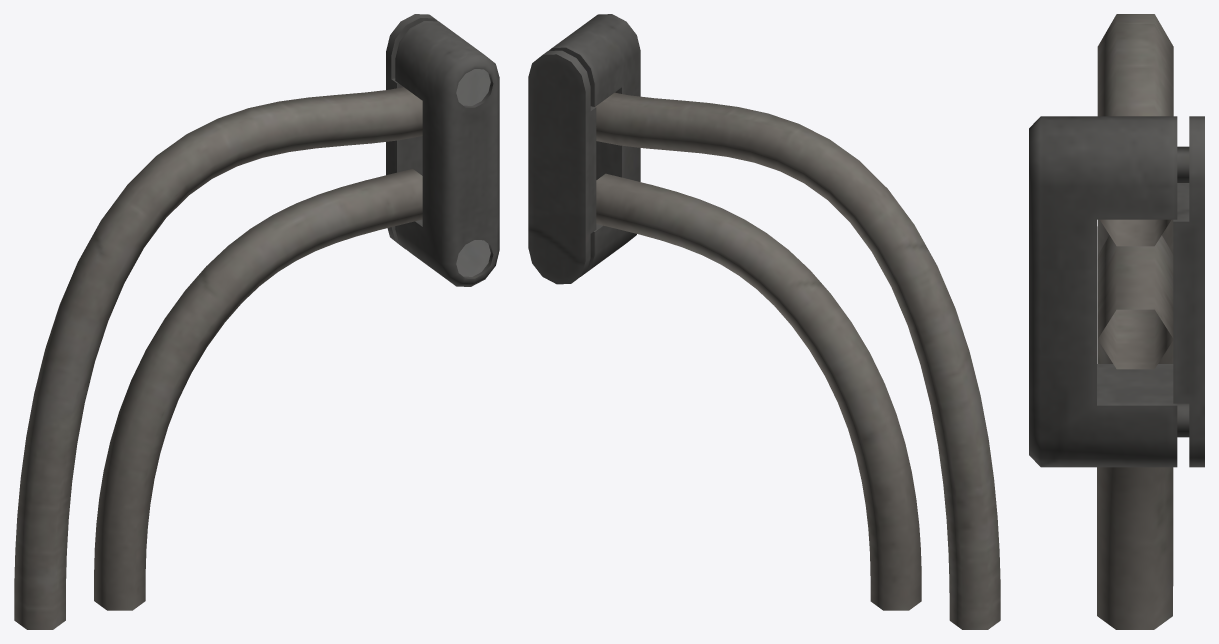
The model's file is cable_double_turn_short.glb.
3 renders of one model, left to right at view 1: azimuth 30°, elevation 25°; view 2: azimuth 150°, elevation 25°; view 3: azimuth 270°, elevation 25°, orthographic. The views are drawn at different scales.
Visible parts, largest first — view 1: cable_double_turn_short.001; view 2: cable_double_turn_short.001; view 3: cable_double_turn_short.001.
Part boxes in pixels (x1,y1,x2,y2): cable_double_turn_short.001: [14, 14, 499, 629]; cable_double_turn_short.001: [528, 14, 1000, 629]; cable_double_turn_short.001: [1029, 14, 1204, 629].
Bounding box in the file's own units: 0.112 × 0.1178 × 0.0259.
1 material, 1 textured.
